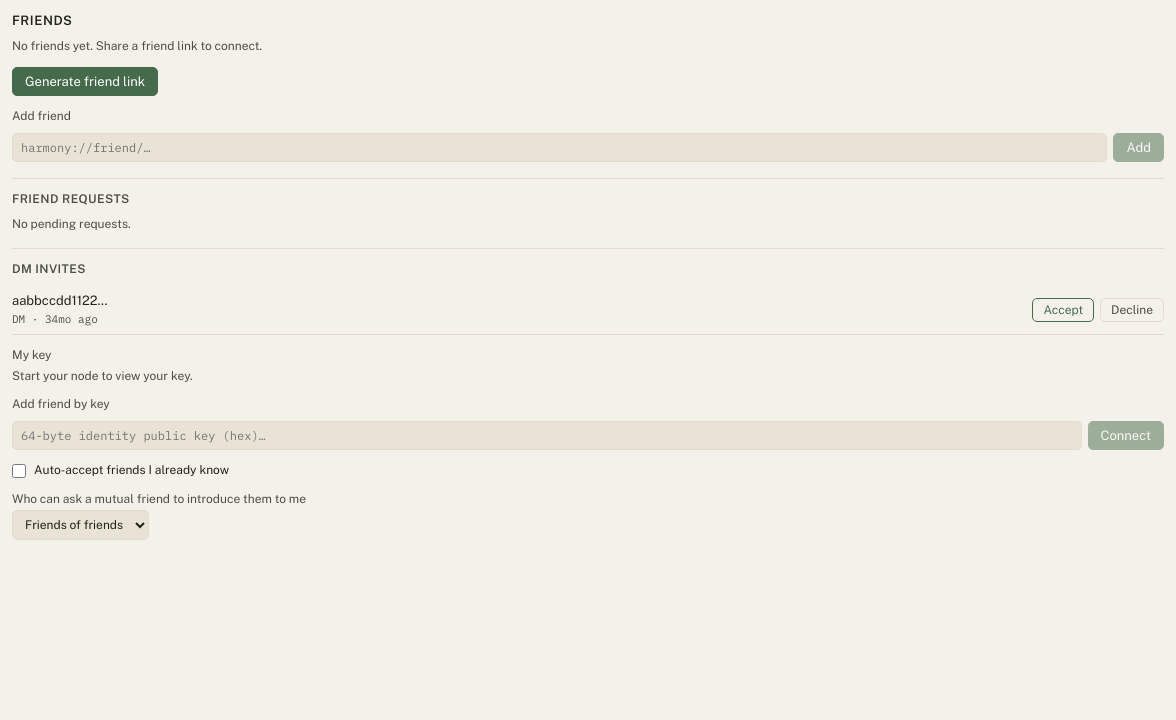
Scenario: FriendsPanel — DM invites pending section (ZEB-236 T7) › declines a DM invite and refreshes
Expected: the list with test id "dm-invite-list" is shown, [12,286,1164,335]
Click the button with test id "dm-invite-decline-btn". click: (1132, 310)
box: [1100,298,1164,322]
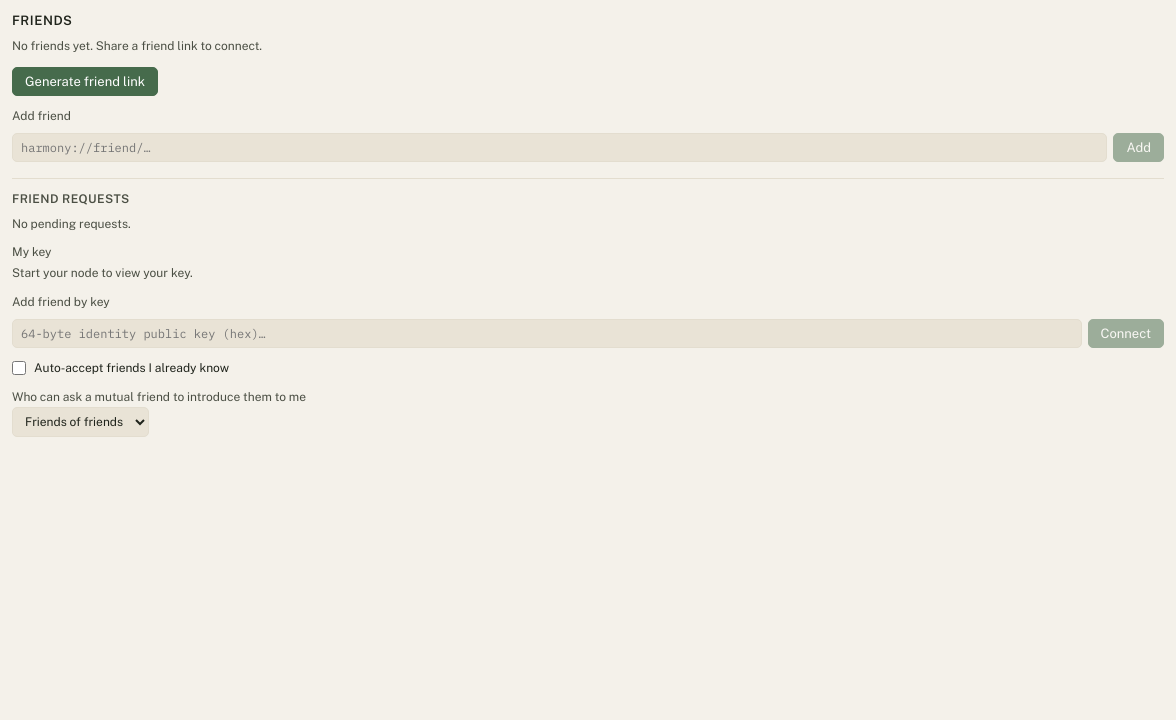
Expected: the element with test id "dm-invites-section" is gone
